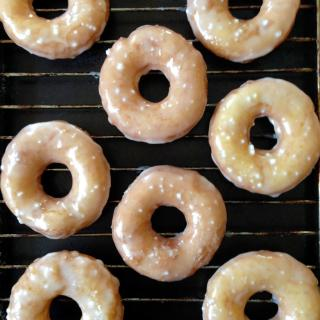Doughnut: (111, 165, 228, 282), (0, 122, 113, 240), (209, 76, 320, 196), (98, 24, 206, 146), (200, 248, 320, 320), (6, 250, 126, 320), (188, 0, 303, 66), (0, 0, 109, 59)
